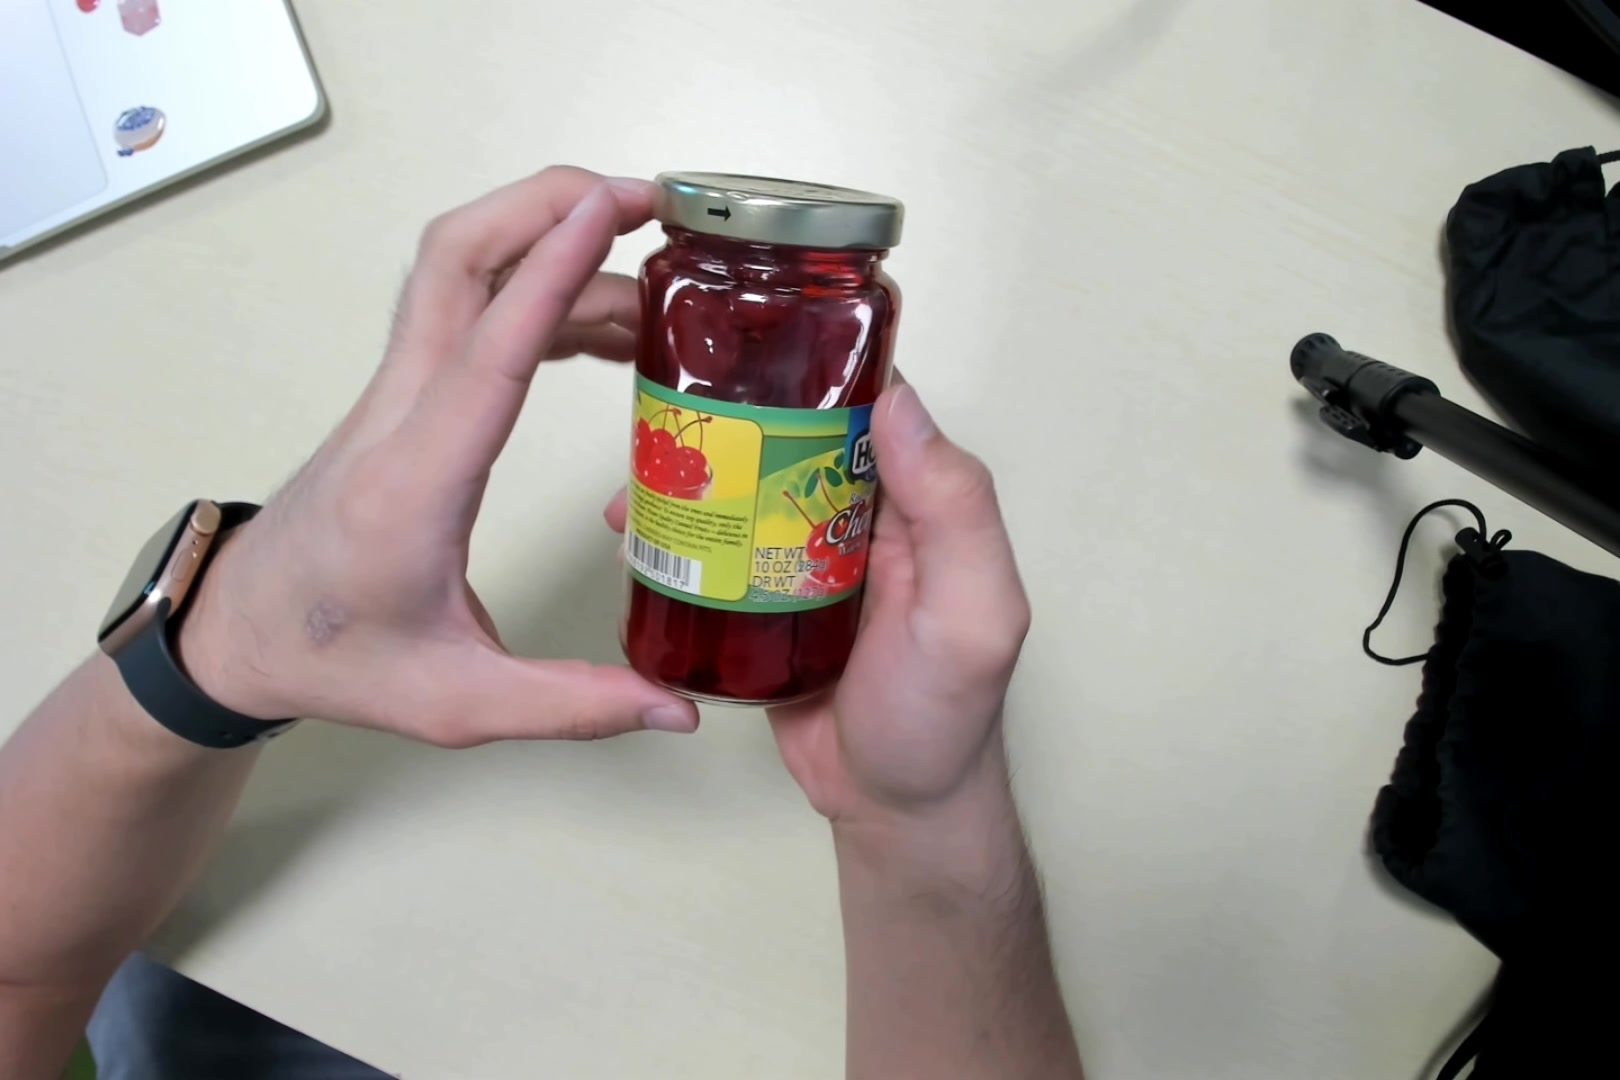OtherBakingNeeds_200-299g_NonHalal_NonHealthy: (630, 164, 903, 706)
